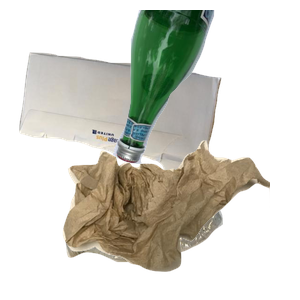glass: (109, 10, 300, 167)
paper: (17, 50, 231, 230)
plastic: (63, 170, 278, 300)
trash: (60, 138, 300, 300)
